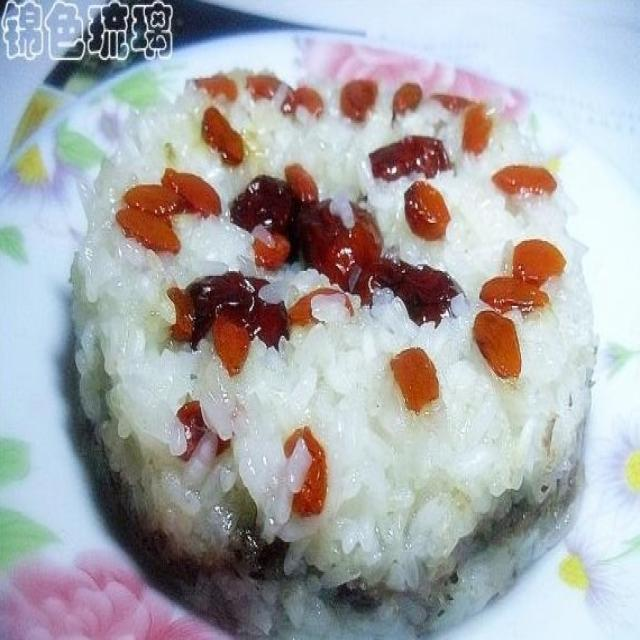米饭主食: (8, 10, 623, 633)
